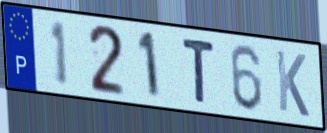1: (136, 29, 162, 100), (48, 19, 69, 89)
2: (86, 23, 126, 99)
6: (228, 40, 264, 115)
K: (274, 47, 311, 120)
T: (180, 35, 217, 107)
